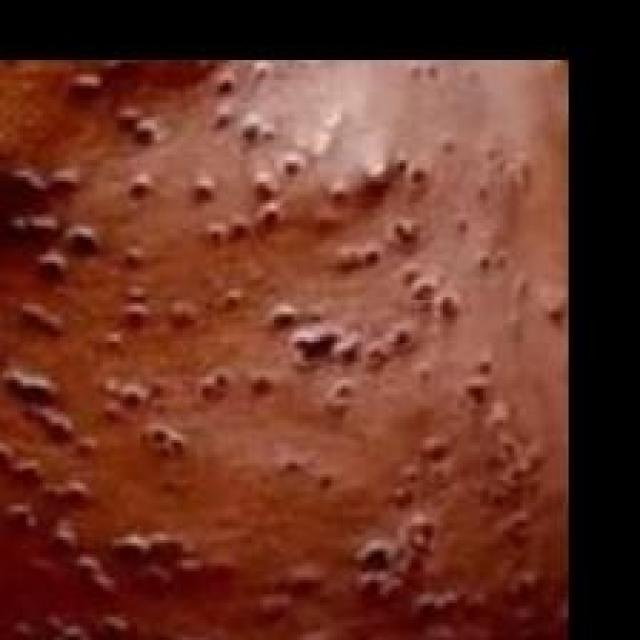monkeypox: (0, 47, 560, 640)
